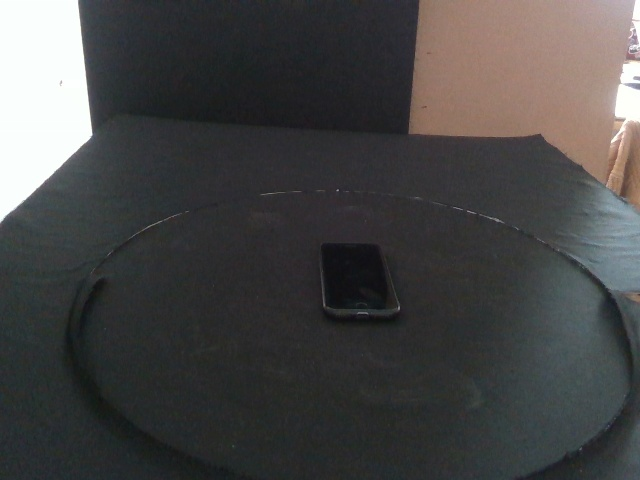phone: (318, 242, 400, 320)
